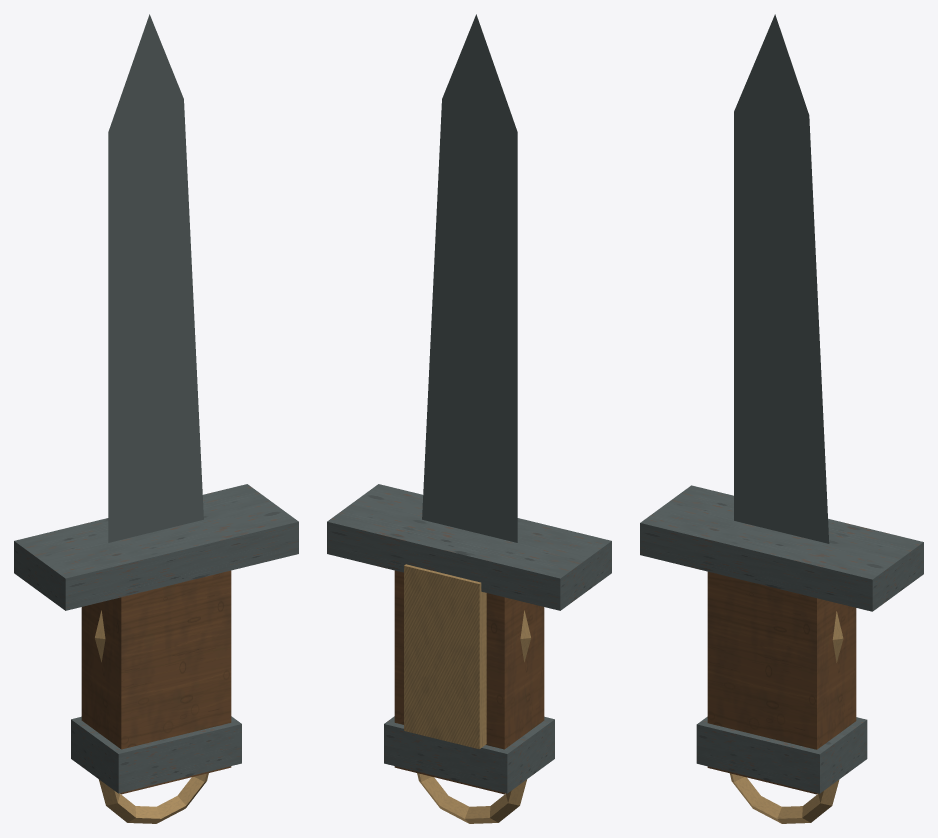
File: pr-018_knife_cutting_tool__clean.obj
The picture shows the model from 3 angles, left to right: view 1: azimuth 30°, elevation 25°; view 2: azimuth 150°, elevation 25°; view 3: azimuth 330°, elevation 25°; orthographic projection.
Visible parts, largest first — view 1: pr-018_knife_cutting_tool__clean; view 2: pr-018_knife_cutting_tool__clean; view 3: pr-018_knife_cutting_tool__clean.
Boxes of the visible parts, x1,y1,x2,y2 form: pr-018_knife_cutting_tool__clean: [14, 14, 298, 823]; pr-018_knife_cutting_tool__clean: [327, 14, 611, 823]; pr-018_knife_cutting_tool__clean: [640, 14, 923, 823].
Bounding box in the file's own units: 0.34 × 1.13 × 0.135.
Materials: 3 (3 with a texture image).
